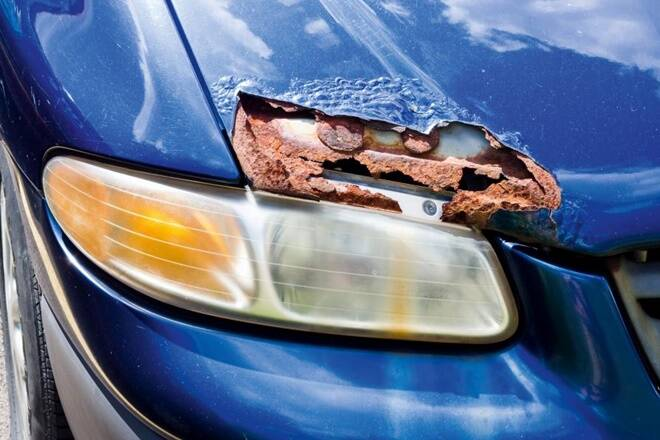rust: (236, 107, 522, 227)
